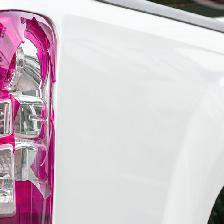tail_lamp: (2, 13, 55, 208)
